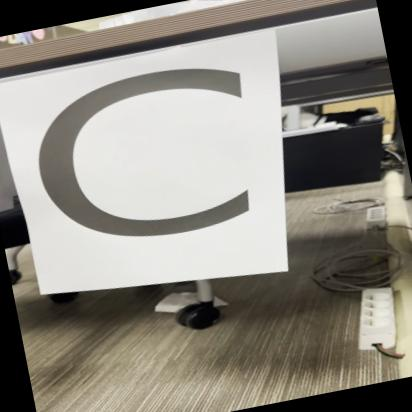seat: (0, 32, 313, 306)
